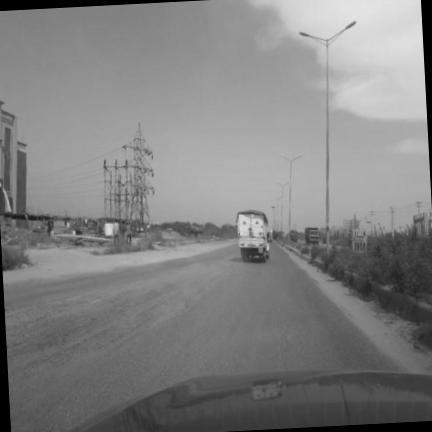Road: (4, 244, 396, 431)
